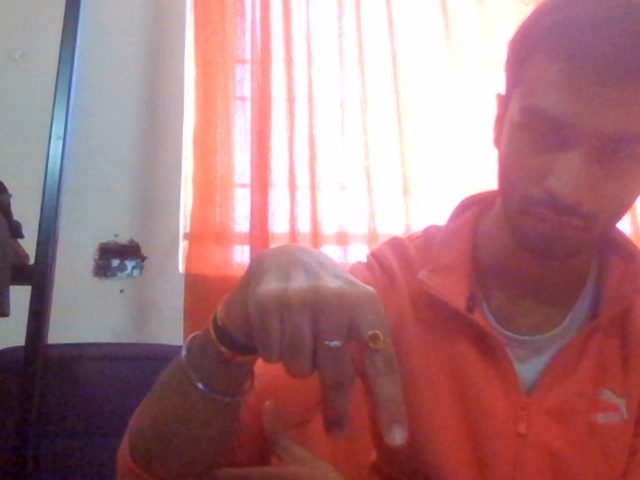P: (223, 215, 417, 479)
